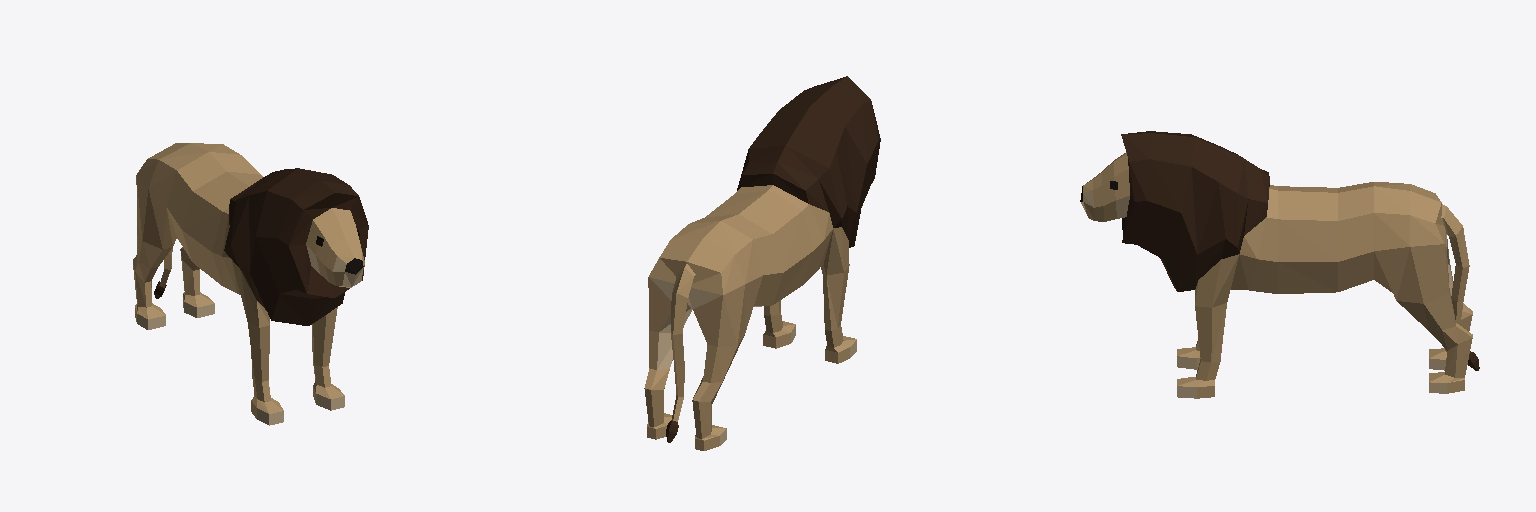
3 views of the same model, side by side, from view 1: azimuth 30°, elevation 25°; view 2: azimuth 150°, elevation 25°; view 3: azimuth 270°, elevation 25° (orthographic).
Parts seen in each view (by area): view 1: Geo_Lion; view 2: Geo_Lion; view 3: Geo_Lion.
Boxes of the visible parts, x1,y1,x2,y2 form: Geo_Lion: [133, 143, 368, 425]; Geo_Lion: [644, 76, 880, 450]; Geo_Lion: [1080, 131, 1479, 398].
Size of the model in its own units: 64.73 by 143 by 211.
Materials: 1 (1 with a texture image).